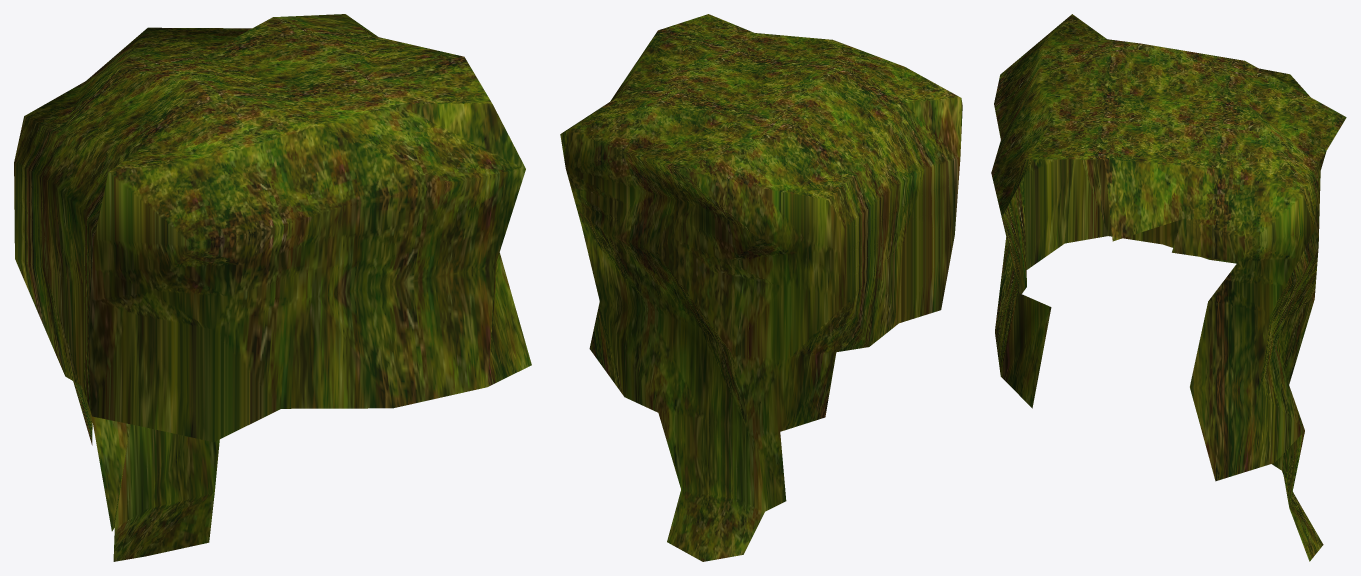
The model's file is TROLLHOLE02_RM_PSURF94.fbx.
The picture shows the model from 3 angles, left to right: view 1: azimuth 30°, elevation 25°; view 2: azimuth 150°, elevation 25°; view 3: azimuth 270°, elevation 25°; orthographic projection. The views are drawn at different scales.
Parts seen in each view (by area): view 1: TROLLHOLE02_RM_PSURF94; view 2: TROLLHOLE02_RM_PSURF94; view 3: TROLLHOLE02_RM_PSURF94.
Boxes of the visible parts, left/top/right/bottom form: TROLLHOLE02_RM_PSURF94: left=14, top=14, right=531, bottom=561; TROLLHOLE02_RM_PSURF94: left=560, top=14, right=962, bottom=561; TROLLHOLE02_RM_PSURF94: left=991, top=14, right=1346, bottom=561.
Size of the model in its own units: 72364 by 92760 by 62616.
Materials: 1 (1 with a texture image).
